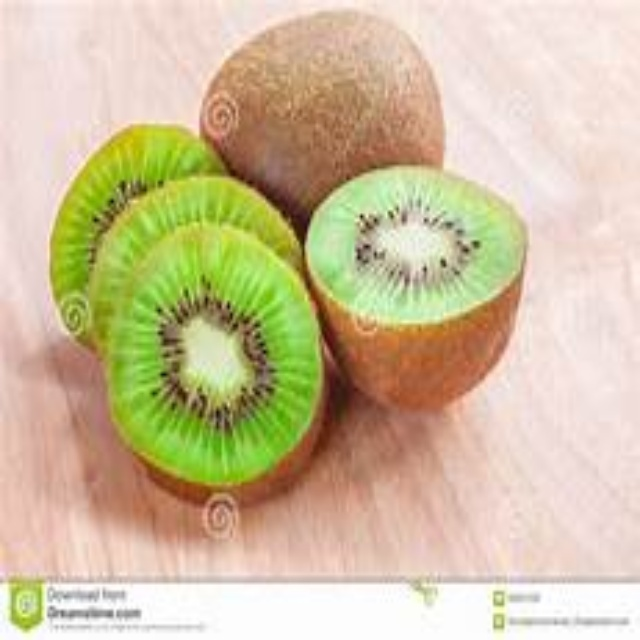kiwi: (39, 116, 334, 519), (299, 156, 529, 423), (198, 10, 441, 212)
